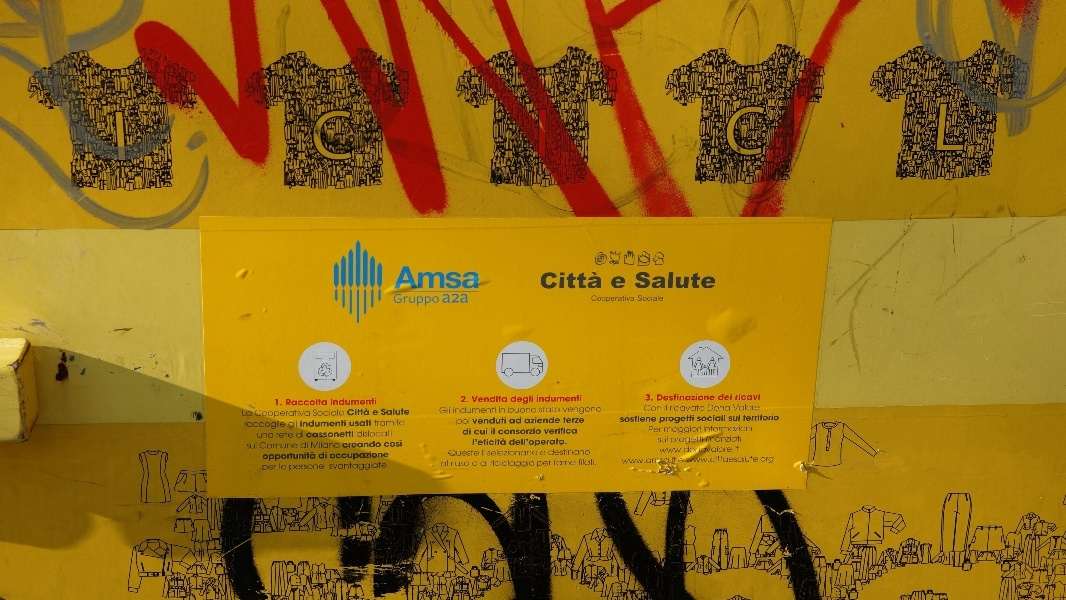text: (337, 109, 353, 162), (321, 109, 336, 162), (737, 106, 752, 159), (113, 111, 128, 162), (945, 103, 960, 152), (753, 106, 766, 159), (726, 106, 736, 159), (311, 109, 320, 162), (417, 266, 432, 289), (433, 266, 448, 289), (449, 266, 464, 289), (465, 266, 479, 289), (403, 266, 416, 289), (545, 271, 560, 289), (561, 271, 576, 289), (577, 271, 592, 289), (641, 272, 656, 289), (657, 272, 672, 289), (673, 272, 688, 289), (689, 272, 704, 289), (539, 110, 544, 158), (705, 272, 717, 289), (940, 103, 944, 152), (961, 103, 965, 152), (401, 294, 416, 307), (417, 294, 432, 307), (337, 460, 352, 472), (353, 460, 368, 472), (369, 460, 384, 472), (593, 271, 602, 289), (612, 276, 624, 289), (257, 420, 272, 430), (273, 452, 288, 462), (289, 452, 304, 462), (337, 451, 352, 461), (353, 451, 368, 461), (369, 451, 384, 461), (513, 395, 528, 405), (497, 459, 512, 469), (513, 459, 528, 469), (673, 415, 688, 425), (449, 294, 464, 303), (257, 410, 272, 419), (273, 410, 288, 419), (289, 410, 304, 419), (385, 439, 400, 448), (353, 440, 368, 449), (577, 406, 592, 415), (481, 416, 496, 425), (513, 438, 528, 447), (529, 438, 544, 447), (545, 438, 560, 447), (673, 436, 688, 445), (689, 436, 704, 445), (673, 425, 688, 434), (273, 420, 286, 430), (545, 406, 561, 414), (545, 417, 561, 425), (562, 406, 576, 415), (593, 295, 608, 303), (609, 295, 624, 303), (289, 399, 304, 407), (305, 399, 320, 407), (337, 398, 352, 406), (353, 398, 368, 406), (321, 409, 336, 417), (385, 408, 400, 416), (385, 419, 400, 427), (353, 419, 368, 427), (305, 420, 320, 428), (321, 420, 336, 428), (321, 431, 336, 439), (337, 431, 352, 439), (369, 430, 384, 438), (321, 441, 336, 449), (289, 464, 304, 472), (305, 464, 320, 472), (545, 395, 560, 403), (561, 395, 576, 403), (513, 406, 528, 414), (529, 417, 544, 425), (513, 428, 528, 436), (545, 427, 560, 435), (561, 427, 576, 435), (481, 438, 496, 446), (449, 449, 464, 457), (465, 449, 480, 457), (497, 449, 512, 457), (513, 449, 528, 457), (753, 414, 768, 422), (660, 415, 672, 425), (737, 404, 752, 412), (737, 393, 752, 401), (369, 440, 382, 449), (689, 425, 702, 434), (306, 431, 320, 439), (658, 436, 672, 444), (737, 425, 753, 432), (641, 416, 657, 423), (689, 405, 705, 412), (245, 420, 256, 430), (305, 452, 316, 462), (353, 409, 368, 416), (273, 442, 288, 449), (481, 396, 496, 403), (465, 407, 480, 414), (481, 407, 496, 414), (561, 449, 576, 456), (561, 459, 576, 466), (481, 460, 496, 467), (657, 458, 672, 465), (721, 456, 736, 463), (737, 456, 752, 463), (689, 446, 704, 453), (705, 446, 720, 453), (721, 436, 736, 443), (705, 425, 720, 432), (721, 425, 736, 432), (705, 415, 720, 422), (625, 416, 640, 423), (673, 405, 688, 412), (657, 394, 672, 401), (673, 394, 688, 401), (689, 394, 704, 401), (275, 399, 288, 407), (499, 428, 512, 436), (529, 428, 542, 436), (769, 414, 782, 422), (242, 410, 256, 417), (577, 449, 591, 456), (578, 459, 592, 466), (706, 436, 720, 443), (276, 431, 288, 439), (708, 404, 720, 412), (545, 110, 547, 158), (433, 294, 440, 307), (499, 406, 512, 413), (563, 417, 576, 424), (483, 449, 496, 456), (451, 460, 464, 467), (721, 446, 734, 453), (641, 296, 656, 302), (289, 420, 298, 430), (257, 433, 272, 439), (342, 440, 352, 449), (263, 452, 272, 462), (593, 406, 603, 415), (689, 457, 704, 463), (357, 430, 368, 438), (260, 442, 272, 449), (329, 460, 336, 472), (548, 449, 560, 456), (644, 405, 656, 412), (721, 394, 733, 401), (497, 416, 506, 425), (625, 295, 635, 303), (401, 408, 411, 416), (374, 419, 384, 427), (337, 420, 347, 428), (497, 438, 507, 446), (721, 404, 731, 412), (646, 394, 656, 402), (394, 294, 400, 307), (497, 396, 508, 403), (453, 407, 464, 414), (705, 394, 716, 401), (625, 459, 640, 464), (369, 398, 378, 406), (372, 410, 384, 416), (296, 430, 304, 439), (311, 441, 320, 449), (279, 463, 288, 471), (513, 417, 522, 425), (472, 416, 480, 425), (529, 449, 538, 457), (664, 425, 672, 434), (743, 414, 752, 422), (246, 442, 256, 449), (457, 417, 464, 427), (646, 458, 656, 465), (710, 456, 720, 463), (636, 272, 640, 289), (659, 448, 672, 453), (337, 409, 345, 417), (529, 406, 537, 414), (488, 449, 496, 457), (760, 456, 768, 464), (289, 442, 298, 449), (263, 465, 272, 472), (471, 396, 480, 403), (561, 438, 568, 447), (330, 451, 336, 461), (385, 460, 390, 472), (529, 459, 535, 469), (689, 415, 695, 425), (321, 399, 328, 407), (313, 409, 320, 417), (385, 430, 392, 438), (537, 395, 544, 403), (440, 407, 448, 414), (577, 417, 585, 424), (473, 438, 480, 446), (753, 404, 760, 412), (753, 393, 760, 401), (541, 271, 544, 289), (305, 410, 311, 419), (385, 451, 390, 461), (529, 395, 534, 405), (465, 417, 470, 427), (491, 459, 496, 469), (673, 448, 683, 453), (321, 452, 328, 459), (481, 429, 488, 436), (537, 461, 544, 468), (545, 461, 552, 468), (441, 460, 448, 467), (753, 456, 760, 463), (649, 426, 656, 433), (729, 415, 736, 422), (697, 415, 704, 422), (665, 405, 672, 412), (465, 428, 471, 436), (769, 456, 775, 464), (443, 294, 448, 303), (679, 458, 688, 463), (657, 296, 664, 302), (474, 429, 480, 436), (554, 459, 560, 466), (331, 398, 336, 406), (289, 431, 294, 439), (577, 395, 582, 403), (539, 406, 544, 414), (472, 462, 480, 467), (465, 294, 469, 303), (347, 409, 352, 416), (273, 465, 278, 472), (491, 428, 496, 435), (465, 460, 470, 467), (683, 446, 688, 453), (737, 436, 742, 443), (657, 426, 662, 433), (721, 415, 726, 422), (657, 405, 662, 412), (380, 408, 384, 416), (401, 419, 405, 427), (321, 464, 325, 472), (705, 457, 710, 463), (465, 396, 469, 403), (593, 459, 597, 466), (673, 457, 677, 464), (737, 415, 741, 422), (620, 416, 624, 423), (509, 438, 512, 447), (641, 459, 646, 464), (349, 419, 352, 427), (369, 419, 372, 427), (301, 420, 304, 428), (337, 441, 340, 449), (301, 441, 304, 449), (305, 441, 308, 449), (509, 406, 512, 414), (525, 417, 528, 425), (509, 417, 512, 425), (733, 404, 736, 412), (461, 396, 464, 403), (737, 446, 740, 453), (540, 451, 544, 456), (286, 399, 288, 407), (318, 452, 320, 459), (449, 407, 451, 414), (734, 446, 736, 453), (670, 405, 672, 412), (718, 394, 720, 401), (625, 276, 626, 289), (638, 296, 640, 302), (686, 457, 688, 463), (511, 395, 512, 405), (622, 459, 624, 464), (255, 410, 256, 419), (383, 439, 384, 448), (401, 439, 402, 448), (671, 436, 672, 445), (353, 431, 354, 439), (463, 428, 464, 436), (577, 427, 578, 435), (369, 409, 370, 416), (273, 433, 274, 439), (545, 451, 546, 456)
